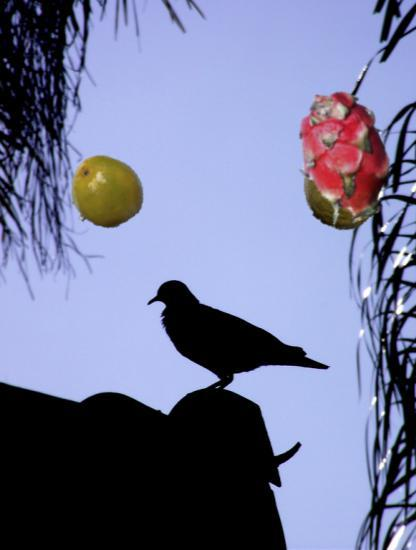Guava: (298, 151, 380, 233)
Maracuja: (68, 155, 146, 233)
Pitahaya: (279, 88, 413, 222)
